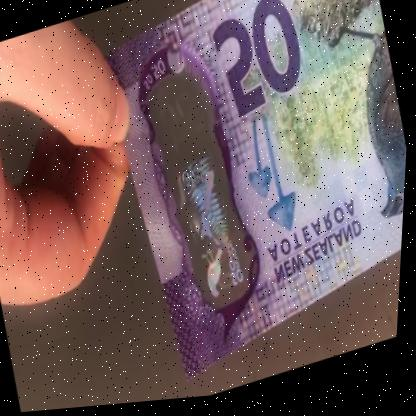50B: (143, 82, 262, 319)
